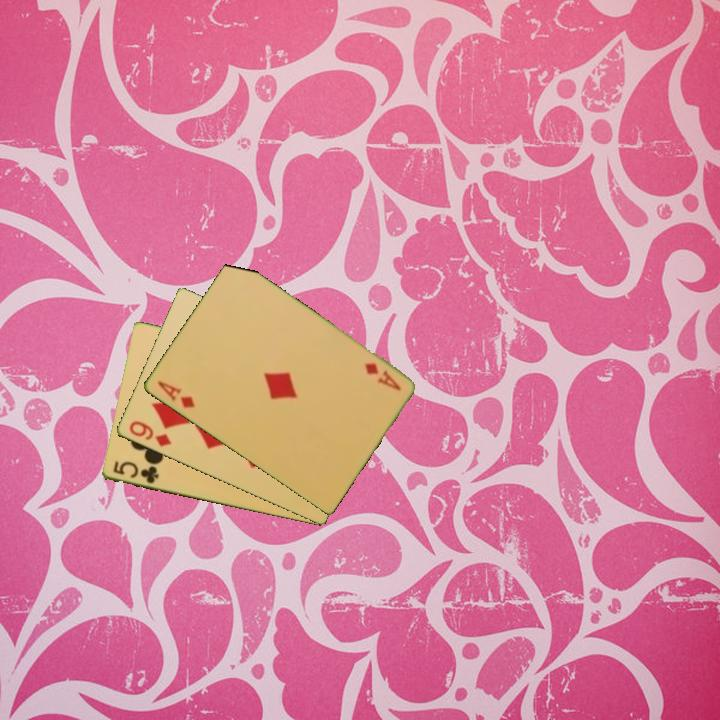5c: (109, 458, 161, 487)
9d: (125, 417, 174, 450)
Ad: (153, 377, 198, 411), (360, 359, 403, 394)
